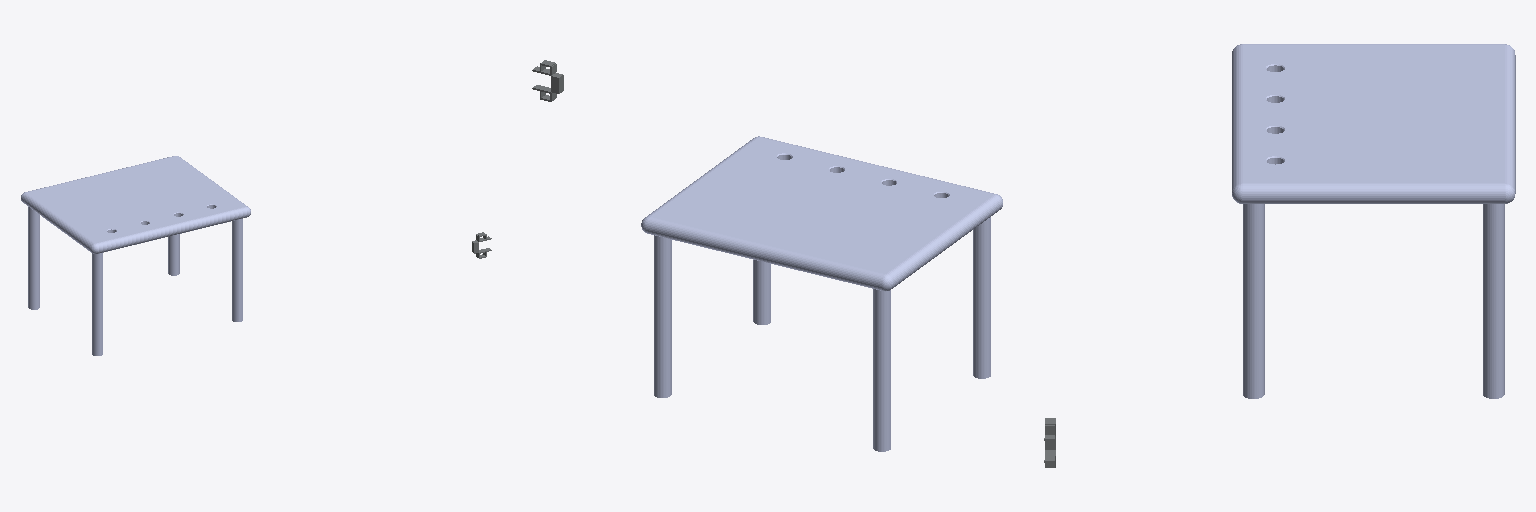
--- Render facts (derived) ---
3 views of the same robot in one strip: view 1: azimuth 30°, elevation 25°; view 2: azimuth 150°, elevation 25°; view 3: azimuth 270°, elevation 25° (orthographic).
Robot: kr_50_r2500 — 24 links, 23 joints (14 revolute, 9 fixed); root link world; default pose: every joint at zero.
Visible links, largest first — view 1: table; view 2: table; view 3: table.
Boxes of the visible links, x1,y1,x2,y2 form: table: [21, 156, 250, 355]; table: [641, 136, 1002, 451]; table: [1232, 44, 1515, 398].
Bounding box of the posed robot: 3.49 × 2.16 × 1.09 m (x, y, z).
Meshes: 8 distinct files referenced, 1 mesh visuals loaded (1 binary STL); not drawn: 7 (reference not matched to a file when rendering).

The robot description file, URDF, robot "kr_50_r2500":
<?xml version="1.0" ?>
<!-- =================================================================================== -->
<!-- |    This document was autogenerated by xacro from [local-path]/projects/personal_ws/src/kuka_coke_cell/kuka_coke_description/urdf/kuka_table_rviz.xacro | -->
<!-- |    EDITING THIS FILE BY HAND IS NOT RECOMMENDED                                 | -->
<!-- =================================================================================== -->
<robot name="kr_50_r2500">
    <link name="world" />
    <!-- -350° -->
    <!--  360°/s -->
    <link name="base_link">
        <inertial>
            <origin rpy="0 0 0" xyz="-0.080585 0.00067592 0.086754" />
            <mass value="30.385" />
            <inertia ixx="0.38941" ixy="0.0047083" ixz="0.060696" iyy="0.87424" iyz="-0.00029206" izz="1.0819" />
        </inertial>
        <visual>
            <origin rpy="0 0 0" xyz="0 0 0" />
            <geometry>
                <mesh filename="package://kr_50_r2500_description/meshes/base_link.STL" />
            </geometry>
            <material name="">
                <color rgba="0.79216 0.81961 0.93333 1" />
            </material>
        </visual>
        <collision>
            <origin rpy="0 0 0" xyz="0 0 0" />
            <geometry>
                <mesh filename="package://kr_50_r2500_description/meshes/base_link.STL" />
            </geometry>
        </collision>
    </link>
    <link name="link1">
        <inertial>
            <origin rpy="0 0 0" xyz="0.0600446329714386 0.0116665626627102 0.247062352627269" />
            <mass value="56.0953515273858" />
            <inertia ixx="1.7123503270672" ixy="0.020886843872196" ixz="-0.525246219592262" iyy="2.15349859010488" iyz="-0.031415061955379" izz="1.31690706549715" />
        </inertial>
        <visual>
            <origin rpy="0 0 0" xyz="0 0 0" />
            <geometry>
                <mesh filename="package://kr_50_r2500_description/meshes/link1.STL" />
            </geometry>
            <material name="">
                <color rgba="0.792156862745098 0.819607843137255 0.933333333333333 1" />
            </material>
        </visual>
        <collision>
            <origin rpy="0 0 0" xyz="0 0 0" />
            <geometry>
                <mesh filename="package://kr_50_r2500_description/meshes/link1.STL" />
            </geometry>
        </collision>
    </link>
    <joint name="joint1" type="revolute">
        <origin rpy="1.5708 0.009141 0" xyz="0 -0.17 0" />
        <parent link="base_link" />
        <child link="link1" />
        <axis xyz="0 0 -1" />
        <limit effort="10000" lower="-3.22886" upper="3.22886" velocity="3.05433" />
    </joint>
    <link name="link2">
        <inertial>
            <origin rpy="0 0 0" xyz="0.0040251350126134 -0.177497207044946 0.578963319749875" />
            <mass value="35.5942562362571" />
            <inertia ixx="4.47662495992728" ixy="-0.00203441583192867" ixz="0.0769841500591921" iyy="4.49958249588231" iyz="0.214283202316168" izz="0.238618624180958" />
        </inertial>
        <visual>
            <origin rpy="0 0 0" xyz="0 0 0" />
            <geometry>
                <mesh filename="package://kr_50_r2500_description/meshes/link2.STL" />
            </geometry>
            <material name="">
                <color rgba="0.792156862745098 0.819607843137255 0.933333333333333 1" />
            </material>
        </visual>
        <collision>
            <origin rpy="0 0 0" xyz="0 0 0" />
            <geometry>
                <mesh filename="package://kr_50_r2500_description/meshes/link2.STL" />
            </geometry>
        </collision>
    </link>
    <joint name="joint2" type="revolute">
        <origin rpy="0 1.557055  0" xyz="0.175 -0.074807 0.405" />
        <parent link="link1" />
        <child link="link2" />
        <axis xyz="0 1 0" />
        <limit effort="10000" lower="-3.05433" upper="1.0472" velocity="2.75762" />
    </joint>
    <link name="link3">
        <inertial>
            <origin rpy="0 0 0" xyz="0.0305175734183824 0.097105360534718 0.0162382856824868" />
            <mass value="36.6784876951283" />
            <inertia ixx="0.563908772434098" ixy="0.0648382829251099" ixz="-0.0822356915818992" iyy="0.7868662787778" iyz="0.00379928707270628" izz="1.01511384262152" />
        </inertial>
        <visual>
            <origin rpy="0 0 0" xyz="0 0 0" />
            <geometry>
                <mesh filename="package://kr_50_r2500_description/meshes/link3.STL" />
            </geometry>
            <material name="">
                <color rgba="0.792156862745098 0.819607843137255 0.933333333333333 1" />
            </material>
        </visual>
        <collision>
            <origin rpy="0 0 0" xyz="0 0 0" />
            <geometry>
                <mesh filename="package://kr_50_r2500_description/meshes/link3.STL" />
            </geometry>
        </collision>
    </link>
    <joint name="joint3" type="revolute">
        <origin rpy="0 -1.557055 0" xyz="0 0 1.29" />
        <parent link="link2" />
        <child link="link3" />
        <axis xyz="0 1 0" />
        <limit effort="10000" lower="-2.0944" upper="2.96706" velocity="3.05433" />
    </joint>
    <link name="link4">
        <inertial>
            <origin rpy="0 0 0" xyz="0.400085577392824 0.0280533450779974 -6.01461215805621E-05" />
            <mass value="15.1542881051753" />
            <inertia ixx="0.0701060691297577" ixy="-0.0990093812478981" ixz="0.00018489912158269" iyy="0.729933929975417" iyz="-2.55452640777306E-05" izz="0.748398699396793" />
        </inertial>
        <visual>
            <origin rpy="0 0 0" xyz="0 0 0" />
            <geometry>
                <mesh filename="package://kr_50_r2500_description/meshes/link4.STL" />
            </geometry>
            <material name="">
                <color rgba="0.792156862745098 0.819607843137255 0.933333333333333 1" />
            </material>
        </visual>
        <collision>
            <origin rpy="0 0 0" xyz="0 0 0" />
            <geometry>
                <mesh filename="package://kr_50_r2500_description/meshes/link4.STL" />
            </geometry>
        </collision>
    </link>
    <joint name="joint4" type="revolute">
        <origin rpy="0 0 0" xyz="0.32687 0.074807 0.05" />
        <parent link="link3" />
        <child link="link4" />
        <axis xyz="1 0 0" />
        <limit effort="10000" lower="-3.14159" upper="3.14159" velocity="4.36332" />
    </joint>
    <link name="link5">
        <inertial>
            <origin rpy="0 0 0" xyz="0.0348166227286741 -0.0333672873060013 -7.86869120463773E-05" />
            <mass value="5.17490767884354" />
            <inertia ixx="0.0198943557123769" ixy="-0.00379528838423929" ixz="-3.17734786601442E-05" iyy="0.0325404927644558" iyz="2.0392665049925E-05" izz="0.0334468145607699" />
        </inertial>
        <visual>
            <origin rpy="0 0 0" xyz="0 0 0" />
            <geometry>
                <mesh filename="package://kr_50_r2500_description/meshes/link5.STL" />
            </geometry>
            <material name="">
                <color rgba="0.792156862745098 0.819607843137255 0.933333333333333 1" />
            </material>
        </visual>
        <collision>
            <origin rpy="0 0 0" xyz="0 0 0" />
            <geometry>
                <mesh filename="package://kr_50_r2500_description/meshes/link5.STL" />
            </geometry>
        </collision>
    </link>
    <joint name="joint5" type="revolute">
        <origin rpy="0 -0.0 0" xyz="0.708131634616243 0 0" />
        <parent link="link4" />
        <child link="link5" />
        <axis xyz="0 1 0" />
        <limit effort="10000" lower="-2.18166" upper="2.18166" velocity="4.36332" />
    </joint>
    <link name="link6">
        <inertial>
            <origin rpy="0 0 0" xyz="0.0697663509698883 -2.97159715269453E-06 -4.15148219581329E-05" />
            <mass value="0.362972835401582" />
            <inertia ixx="0.000809216081686161" ixy="9.97029573660496E-10" ixz="2.41841688721677E-07" iyy="0.000440777200154296" iyz="1.15745872636665E-07" izz="0.000441694717362902" />
        </inertial>
        <visual>
            <origin rpy="0 0 0" xyz="0 0 0" />
            <geometry>
                <mesh filename="package://kr_50_r2500_description/meshes/link6.STL" />
            </geometry>
            <material name="">
                <color rgba="0.792156862745098 0.819607843137255 0.933333333333333 1" />
            </material>
        </visual>
        <collision>
            <origin rpy="0 0 0" xyz="0 0 0" />
            <geometry>
                <mesh filename="package://kr_50_r2500_description/meshes/link6.STL" />
            </geometry>
        </collision>
    </link>
    <joint name="joint6" type="revolute">
        <origin rpy="0 0 0" xyz="0.0966663727881543 0 0" />
        <parent link="link5" />
        <child link="link6" />
        <axis xyz="1 0 0" />
        <limit effort="10000" lower="-6.10865" upper="6.10865" velocity="6.28319" />
    </joint>
    <joint name="link6_to_flange" type="fixed">
        <origin rpy="0 1.57079632679 0" xyz="0.07 0 0" />
        <parent link="link6" />
        <child link="flange" />
    </joint>
    <link name="flange">
        <inertial>
            <origin rpy="0 0 0" xyz="0 0 0" />
            <mass value="0.01" />
            <inertia ixx="0.00001" ixy="0.00000" ixz="0.00000" iyy="0.00001" iyz="0.00000" izz="0.00000" />
        </inertial>
    </link>
    <transmission name="tran1">
        <type>transmission_interface/SimpleTransmission</type>
        <joint name="joint1">
            <hardwareInterface>hardware_interface/EffortJointInterface</hardwareInterface>
        </joint>
        <actuator name="motor1">
            <mechanicalReduction>1</mechanicalReduction>
            <hardwareInterface>hardware_interface/EffortJointInterface</hardwareInterface>
        </actuator>
    </transmission>
    <transmission name="tran2">
        <type>transmission_interface/SimpleTransmission</type>
        <joint name="joint2">
            <hardwareInterface>hardware_interface/EffortJointInterface</hardwareInterface>
        </joint>
        <actuator name="motor2">
            <mechanicalReduction>1</mechanicalReduction>
            <hardwareInterface>hardware_interface/EffortJointInterface</hardwareInterface>
        </actuator>
    </transmission>
    <transmission name="tran3">
        <type>transmission_interface/SimpleTransmission</type>
        <joint name="joint3">
            <hardwareInterface>hardware_interface/EffortJointInterface</hardwareInterface>
        </joint>
        <actuator name="motor3">
            <mechanicalReduction>1</mechanicalReduction>
            <hardwareInterface>hardware_interface/EffortJointInterface</hardwareInterface>
        </actuator>
    </transmission>
    <transmission name="tran4">
        <type>transmission_interface/SimpleTransmission</type>
        <joint name="joint4">
            <hardwareInterface>hardware_interface/EffortJointInterface</hardwareInterface>
        </joint>
        <actuator name="motor4">
            <mechanicalReduction>1</mechanicalReduction>
            <hardwareInterface>hardware_interface/EffortJointInterface</hardwareInterface>
        </actuator>
    </transmission>
    <transmission name="tran5">
        <type>transmission_interface/SimpleTransmission</type>
        <joint name="joint5">
            <hardwareInterface>hardware_interface/EffortJointInterface</hardwareInterface>
        </joint>
        <actuator name="motor5">
            <mechanicalReduction>1</mechanicalReduction>
            <hardwareInterface>hardware_interface/EffortJointInterface</hardwareInterface>
        </actuator>
    </transmission>
    <transmission name="tran6">
        <type>transmission_interface/SimpleTransmission</type>
        <joint name="joint6">
            <hardwareInterface>hardware_interface/EffortJointInterface</hardwareInterface>
        </joint>
        <actuator name="motor6">
            <mechanicalReduction>1</mechanicalReduction>
            <hardwareInterface>hardware_interface/EffortJointInterface</hardwareInterface>
        </actuator>
    </transmission>
    <joint name="world_to_base_link" type="fixed">
        <origin rpy="-1.57079632679 0 0" xyz="0 0 0" />
        <parent link="world" />
        <child link="base_link" />
    </joint>
    <link name="gripper_base">
        <inertial>
            <origin rpy="0 0 0" xyz="0 0 0" />
            <mass value="0.2" />
            <inertia ixx="0.001" ixy="0.0" ixz="0.0" iyy="0.001" iyz="0.0" izz="0.001" />
        </inertial>
        <visual>
            <origin rpy="0 0 0" xyz="0 0 0.025" />
            <geometry>
                <box size="0.1 0.05 0.05" />
            </geometry>
            <material name="aluminium">
                <color rgba="0.515625 0.52734375 0.53515625 1" />
            </material>
        </visual>
        <collision>
            <origin rpy="0 0 0" xyz="0 0 0.025" />
            <geometry>
                <box size="0.1 0.05 0.05" />
            </geometry>
            <material name="aluminium">
                <color rgba="0.515625 0.52734375 0.53515625 1" />
            </material>
        </collision>
    </link>
    <link name="open_tip" />
    <joint name="open_tip_joint" type="fixed">
        <origin rpy="0 0 0" xyz="0 0 0.13782116141076978" />
        <parent link="gripper_base" />
        <child link="open_tip" />
    </joint>
    <link name="closed_tip" />
    <joint name="closed_tip_joint" type="fixed">
        <origin rpy="0 0 0" xyz="0 0 0.14898979485566355" />
        <parent link="gripper_base" />
        <child link="closed_tip" />
    </joint>
    <link name="zero_pos_tip" />
    <joint name="zero_pos_tip_joint" type="fixed">
        <origin rpy="0 0 0" xyz="0 0 0.17" />
        <parent link="gripper_base" />
        <child link="zero_pos_tip" />
    </joint>
    <link name="right_crank">
        <inertial>
            <origin rpy="0 0 0" xyz="0 0 0" />
            <mass value="0.2" />
            <inertia ixx="0.001" ixy="0.0" ixz="0.0" iyy="0.001" iyz="0.0" izz="0.001" />
        </inertial>
        <visual>
            <origin rpy="0 0 0" xyz="0 0 0.035" />
            <geometry>
                <box size="0.01 0.05 0.07" />
            </geometry>
            <material name="aluminium">
                <color rgba="0.515625 0.52734375 0.53515625 1" />
            </material>
        </visual>
        <collision>
            <origin rpy="0 0 0" xyz="0 0 0.035" />
            <geometry>
                <box size="0.01 0.05 0.07" />
            </geometry>
            <material name="aluminium">
                <color rgba="0.515625 0.52734375 0.53515625 1" />
            </material>
        </collision>
    </link>
    <link name="right_external_crank">
        <inertial>
            <origin rpy="0 0 0" xyz="0 0 0" />
            <mass value="0.2" />
            <inertia ixx="0.001" ixy="0.0" ixz="0.0" iyy="0.001" iyz="0.0" izz="0.001" />
        </inertial>
        <visual>
            <origin rpy="0 0 0" xyz="0 0 0.035" />
            <geometry>
                <box size="0.01 0.05 0.07" />
            </geometry>
            <material name="aluminium">
                <color rgba="0.515625 0.52734375 0.53515625 1" />
            </material>
        </visual>
        <collision>
            <origin rpy="0 0 0" xyz="0 0 0.035" />
            <geometry>
                <box size="0.01 0.05 0.07" />
            </geometry>
            <material name="aluminium">
                <color rgba="0.515625 0.52734375 0.53515625 1" />
            </material>
        </collision>
    </link>
    <link name="right_rod">
        <inertial>
            <origin rpy="0 0 0" xyz="0 0 0" />
            <mass value="0.2" />
            <inertia ixx="0.001" ixy="0.0" ixz="0.0" iyy="0.001" iyz="0.0" izz="0.001" />
        </inertial>
        <visual>
            <origin rpy="0 0 0" xyz="0 0 0.025" />
            <geometry>
                <box size="0.01 0.05 0.05" />
            </geometry>
            <material name="aluminium">
                <color rgba="0.515625 0.52734375 0.53515625 1" />
            </material>
        </visual>
        <collision>
            <origin rpy="0 0 0" xyz="0 0 0.025" />
            <geometry>
                <box size="0.01 0.05 0.05" />
            </geometry>
            <material name="aluminium">
                <color rgba="0.515625 0.52734375 0.53515625 1" />
            </material>
        </collision>
    </link>
    <link name="right_base_rod">
        <inertial>
            <origin rpy="0 0 0" xyz="0 0 0" />
            <mass value="0.2" />
            <inertia ixx="0.001" ixy="0.0" ixz="0.0" iyy="0.001" iyz="0.0" izz="0.001" />
        </inertial>
        <visual>
            <origin rpy="0 0 0" xyz="0 0 0.025" />
            <geometry>
                <box size="0.01 0.05 0.05" />
            </geometry>
            <material name="aluminium">
                <color rgba="0.515625 0.52734375 0.53515625 1" />
            </material>
        </visual>
        <collision>
            <origin rpy="0 0 0" xyz="0 0 0.025" />
            <geometry>
                <box size="0.01 0.05 0.05" />
            </geometry>
            <material name="aluminium">
                <color rgba="0.515625 0.52734375 0.53515625 1" />
            </material>
        </collision>
    </link>
    <link name="right_phalanx">
        <inertial>
            <origin rpy="0 0 0" xyz="0 0 0" />
            <mass value="0.2" />
            <inertia ixx="0.001" ixy="0.0" ixz="0.0" iyy="0.001" iyz="0.0" izz="0.001" />
        </inertial>
        <visual>
            <origin rpy="0 0 0" xyz="0 0 0.025" />
            <geometry>
                <box size="0.01 0.05 0.05" />
            </geometry>
            <material name="aluminium">
                <color rgba="0.515625 0.52734375 0.53515625 1" />
            </material>
        </visual>
        <collision>
            <origin rpy="0 0 0" xyz="0 0 0.025" />
            <geometry>
                <box size="0.01 0.05 0.05" />
            </geometry>
            <material name="aluminium">
                <color rgba="0.515625 0.52734375 0.53515625 1" />
            </material>
        </collision>
    </link>
    <joint name="right_finger_joint" type="revolute">
        <origin rpy="0 0 0" xyz="0.055 0 0.05" />
        <parent link="gripper_base" />
        <child link="right_crank" />
        <axis xyz="0 1 0" />
        <limit effort="5" lower="-0.7956029534845354" upper="1" velocity="5.0" />
    </joint>
    <joint name="right_joint_2_5" type="fixed">
        <origin rpy="0 -1.5707963267948966 0" xyz="0 0 0" />
        <parent link="right_rod" />
        <child link="right_phalanx" />
        <axis xyz="0 1 0" />
    </joint>
    <joint name="right_joint_1_2" type="revolute">
        <origin rpy="0 1.5707963267948966 0" xyz="0 0 0.07" />
        <parent link="right_crank" />
        <child link="right_rod" />
        <axis xyz="0 1 0" />
        <limit effort="10" lower="-3.141592653589793" upper="3.141592653589793" velocity="2.0" />
        <mimic joint="right_finger_joint" multiplier="-1" offset="0" />
    </joint>
    <joint name="right_joint_2_3" type="revolute">
        <origin rpy="0 1.5707963267948966 0" xyz="0 0 0.05" />
        <parent link="right_rod" />
        <child link="right_external_crank" />
        <axis xyz="0 1 0" />
        <limit effort="10" lower="-3.141592653589793" upper="3.141592653589793" velocity="2.0" />
        <mimic joint="right_finger_joint" multiplier="1" offset="0" />
    </joint>
    <joint name="right_joint_3_4" type="revolute">
        <origin rpy="0 1.5707963267948966 0" xyz="0 0 0.07" />
        <parent link="right_external_crank" />
        <child link="right_base_rod" />
        <axis xyz="0 1 0" />
        <limit effort="10" lower="-3.141592653589793" upper="3.141592653589793" velocity="2.0" />
        <mimic joint="right_finger_joint" multiplier="-1" offset="0" />
    </joint>
    <!-- Add if to include this link only for rviz  -->
    <!-- <link name="${prefix}tip"/>
    <joint name="${prefix}tip_joint" type="fixed">
      <origin xyz="${-0.5*link_width} 0 ${phalanx_length}" rpy="0 0 0"/>
      <parent link="${prefix}phalanx" />
      <child link="${prefix}tip" />
    </joint> -->
    <!-- <gazebo>
      <joint name="${prefix}joint_4_1" type="revolute">
        <parent>${prefix}base_rod</parent>
        <child>${prefix}crank</child>
        <pose relative_to="${prefix}base_rod">0 0 ${rod_length}   0 ${pi/2} 0</pose>
        <axis>
          <xyz>0 1 0</xyz>
        </axis>
      </joint>

      <joint name="${prefix}joint_0_4" type="revolute">
        <parent>${base_name}</parent>
        <child>${prefix}base_rod</child>
        <pose relative_to="${base_name}">${(0.5*(base_x+link_width)+rod_length)*cos(rot_z)} 0 ${base_z} 0 0 ${rot_z}</pose>
        <axis>
          <xyz>0 1 0</xyz>
        </axis>
      </joint>
    </gazebo>

    <gazebo reference="${prefix}phalanx">
      <self_collide>1</self_collide>
      <kp>100000</kp>
      <kd>200</kd>
      <mu1>2</mu1>
      <mu2>2</mu2>
    </gazebo> -->
    <link name="left_crank">
        <inertial>
            <origin rpy="0 0 0" xyz="0 0 0" />
            <mass value="0.2" />
            <inertia ixx="0.001" ixy="0.0" ixz="0.0" iyy="0.001" iyz="0.0" izz="0.001" />
        </inertial>
        <visual>
            <origin rpy="0 0 0" xyz="0 0 0.035" />
            <geometry>
                <box size="0.01 0.05 0.07" />
            </geometry>
            <material name="aluminium">
                <color rgba="0.515625 0.52734375 0.53515625 1" />
            </material>
        </visual>
        <collision>
            <origin rpy="0 0 0" xyz="0 0 0.035" />
            <geometry>
                <box size="0.01 0.05 0.07" />
            </geometry>
            <material name="aluminium">
                <color rgba="0.515625 0.52734375 0.53515625 1" />
            </material>
        </collision>
    </link>
    <link name="left_external_crank">
        <inertial>
            <origin rpy="0 0 0" xyz="0 0 0" />
            <mass value="0.2" />
            <inertia ixx="0.001" ixy="0.0" ixz="0.0" iyy="0.001" iyz="0.0" izz="0.001" />
        </inertial>
        <visual>
            <origin rpy="0 0 0" xyz="0 0 0.035" />
            <geometry>
                <box size="0.01 0.05 0.07" />
            </geometry>
            <material name="aluminium">
                <color rgba="0.515625 0.52734375 0.53515625 1" />
            </material>
        </visual>
        <collision>
            <origin rpy="0 0 0" xyz="0 0 0.035" />
            <geometry>
                <box size="0.01 0.05 0.07" />
            </geometry>
            <material name="aluminium">
                <color rgba="0.515625 0.52734375 0.53515625 1" />
            </material>
        </collision>
    </link>
    <link name="left_rod">
        <inertial>
            <origin rpy="0 0 0" xyz="0 0 0" />
            <mass value="0.2" />
            <inertia ixx="0.001" ixy="0.0" ixz="0.0" iyy="0.001" iyz="0.0" izz="0.001" />
        </inertial>
        <visual>
            <origin rpy="0 0 0" xyz="0 0 0.025" />
            <geometry>
                <box size="0.01 0.05 0.05" />
            </geometry>
            <material name="aluminium">
                <color rgba="0.515625 0.52734375 0.53515625 1" />
            </material>
        </visual>
        <collision>
            <origin rpy="0 0 0" xyz="0 0 0.025" />
            <geometry>
                <box size="0.01 0.05 0.05" />
            </geometry>
            <material name="aluminium">
                <color rgba="0.515625 0.52734375 0.53515625 1" />
            </material>
        </collision>
    </link>
    <link name="left_base_rod">
        <inertial>
            <origin rpy="0 0 0" xyz="0 0 0" />
            <mass value="0.2" />
            <inertia ixx="0.001" ixy="0.0" ixz="0.0" iyy="0.001" iyz="0.0" izz="0.001" />
        </inertial>
        <visual>
            <origin rpy="0 0 0" xyz="0 0 0.025" />
            <geometry>
                <box size="0.01 0.05 0.05" />
            </geometry>
            <material name="aluminium">
                <color rgba="0.515625 0.52734375 0.53515625 1" />
            </material>
        </visual>
        <collision>
            <origin rpy="0 0 0" xyz="0 0 0.025" />
            <geometry>
                <box size="0.01 0.05 0.05" />
            </geometry>
            <material name="aluminium">
                <color rgba="0.515625 0.52734375 0.53515625 1" />
            </material>
        </collision>
    </link>
    <link name="left_phalanx">
        <inertial>
            <origin rpy="0 0 0" xyz="0 0 0" />
            <mass value="0.2" />
            <inertia ixx="0.001" ixy="0.0" ixz="0.0" iyy="0.001" iyz="0.0" izz="0.001" />
        </inertial>
        <visual>
            <origin rpy="0 0 0" xyz="0 0 0.025" />
            <geometry>
                <box size="0.01 0.05 0.05" />
            </geometry>
            <material name="aluminium">
                <color rgba="0.515625 0.52734375 0.53515625 1" />
            </material>
        </visual>
        <collision>
            <origin rpy="0 0 0" xyz="0 0 0.025" />
            <geometry>
                <box size="0.01 0.05 0.05" />
            </geometry>
            <material name="aluminium">
                <color rgba="0.515625 0.52734375 0.53515625 1" />
            </material>
        </collision>
    </link>
    <joint name="left_finger_joint" type="revolute">
        <origin rpy="0 0 3.141592653589793" xyz="-0.055 0 0.05" />
        <parent link="gripper_base" />
        <child link="left_crank" />
        <axis xyz="0 1 0" />
        <limit effort="5" lower="-0.7956029534845354" upper="1" velocity="5.0" />
        <mimic joint="right_finger_joint" multiplier="1" offset="0" />
    </joint>
    <joint name="left_joint_2_5" type="fixed">
        <origin rpy="0 -1.5707963267948966 0" xyz="0 0 0" />
        <parent link="left_rod" />
        <child link="left_phalanx" />
        <axis xyz="0 1 0" />
    </joint>
    <joint name="left_joint_1_2" type="revolute">
        <origin rpy="0 1.5707963267948966 0" xyz="0 0 0.07" />
        <parent link="left_crank" />
        <child link="left_rod" />
        <axis xyz="0 1 0" />
        <limit effort="10" lower="-3.141592653589793" upper="3.141592653589793" velocity="2.0" />
        <mimic joint="left_finger_joint" multiplier="-1" offset="0" />
    </joint>
    <joint name="left_joint_2_3" type="revolute">
        <origin rpy="0 1.5707963267948966 0" xyz="0 0 0.05" />
        <parent link="left_rod" />
        <child link="left_external_crank" />
        <axis xyz="0 1 0" />
        <limit effort="10" lower="-3.141592653589793" upper="3.141592653589793" velocity="2.0" />
        <mimic joint="left_finger_joint" multiplier="1" offset="0" />
    </joint>
    <joint name="left_joint_3_4" type="revolute">
        <origin rpy="0 1.5707963267948966 0" xyz="0 0 0.07" />
        <parent link="left_external_crank" />
        <child link="left_base_rod" />
        <axis xyz="0 1 0" />
        <limit effort="10" lower="-3.141592653589793" upper="3.141592653589793" velocity="2.0" />
        <mimic joint="left_finger_joint" multiplier="-1" offset="0" />
    </joint>
    <!-- Add if to include this link only for rviz  -->
    <!-- <link name="${prefix}tip"/>
    <joint name="${prefix}tip_joint" type="fixed">
      <origin xyz="${-0.5*link_width} 0 ${phalanx_length}" rpy="0 0 0"/>
      <parent link="${prefix}phalanx" />
      <child link="${prefix}tip" />
    </joint> -->
    <!-- <gazebo>
      <joint name="${prefix}joint_4_1" type="revolute">
        <parent>${prefix}base_rod</parent>
        <child>${prefix}crank</child>
        <pose relative_to="${prefix}base_rod">0 0 ${rod_length}   0 ${pi/2} 0</pose>
        <axis>
          <xyz>0 1 0</xyz>
        </axis>
      </joint>

      <joint name="${prefix}joint_0_4" type="revolute">
        <parent>${base_name}</parent>
        <child>${prefix}base_rod</child>
        <pose relative_to="${base_name}">${(0.5*(base_x+link_width)+rod_length)*cos(rot_z)} 0 ${base_z} 0 0 ${rot_z}</pose>
        <axis>
          <xyz>0 1 0</xyz>
        </axis>
      </joint>
    </gazebo>

    <gazebo reference="${prefix}phalanx">
      <self_collide>1</self_collide>
      <kp>100000</kp>
      <kd>200</kd>
      <mu1>2</mu1>
      <mu2>2</mu2>
    </gazebo> -->
    <transmission name="right_finger_joint_trans">
        <type>transmission_interface/SimpleTransmission</type>
        <joint name="right_finger_joint">
            <hardwareInterface>hardware_interface/EffortJointInterface</hardwareInterface>
        </joint>
        <actuator name="right_finger_joint_motor">
            <mechanicalReduction>1</mechanicalReduction>
            <hardwareInterface>hardware_interface/EffortJointInterface</hardwareInterface>
        </actuator>
    </transmission>
    <transmission name="left_finger_joint_trans">
        <type>transmission_interface/SimpleTransmission</type>
        <joint name="left_finger_joint">
            <hardwareInterface>hardware_interface/EffortJointInterface</hardwareInterface>
        </joint>
        <actuator name="left_finger_joint_motor">
            <mechanicalReduction>1</mechanicalReduction>
            <hardwareInterface>hardware_interface/EffortJointInterface</hardwareInterface>
        </actuator>
    </transmission>
    <joint name="gripper_joint" type="fixed">
        <origin rpy="0 0 0" xyz="0 0 0.018" />
        <parent link="flange" />
        <child link="gripper_base" />
    </joint>
    <joint name="table_fixed" type="fixed">
        <origin rpy="0 0 0" xyz="0 1.5 0" />
        <parent link="world" />
        <child link="table" />
    </joint>
    <link name="table">
        <inertial>
            <origin rpy="0 0 0" xyz="-0.080585 0.00067592 0.086754" />
            <mass value="30.385" />
            <inertia ixx="0.38941" ixy="0.0047083" ixz="0.060696" iyy="0.87424" iyz="-0.00029206" izz="1.0819" />
        </inertial>
        <visual>
            <origin rpy="0 0 0" xyz="0 0 0" />
            <geometry>
                <mesh filename="package://kuka_coke_description/meshes/table.stl" />
            </geometry>
            <material name="">
                <color rgba="0.79216 0.81961 0.93333 1" />
            </material>
        </visual>
        <collision>
            <origin rpy="0 0 0" xyz="0 0 0" />
            <geometry>
                <mesh filename="package://kuka_coke_description/meshes/table.stl" />
            </geometry>
        </collision>
    </link>
    <transmission name="trans_right_joint_1_2">
        <type>transmission_interface/SimpleTransmission</type>
        <joint name="right_joint_1_2">
            <hardwareInterface>hardware_interface/EffortJointInterface</hardwareInterface>
        </joint>
        <actuator name="right_joint_1_2_motor">
            <hardwareInterface>hardware_interface/EffortJointInterface</hardwareInterface>
            <mechanicalReduction>1</mechanicalReduction>
        </actuator>
    </transmission>
    <transmission name="trans_right_joint_2_3">
        <type>transmission_interface/SimpleTransmission</type>
        <joint name="right_joint_2_3">
            <hardwareInterface>hardware_interface/EffortJointInterface</hardwareInterface>
        </joint>
        <actuator name="right_joint_2_3_motor">
            <hardwareInterface>hardware_interface/EffortJointInterface</hardwareInterface>
            <mechanicalReduction>1</mechanicalReduction>
        </actuator>
    </transmission>
    <transmission name="trans_right_joint_3_4">
        <type>transmission_interface/SimpleTransmission</type>
        <joint name="right_joint_3_4">
            <hardwareInterface>hardware_interface/EffortJointInterface</hardwareInterface>
        </joint>
        <actuator name="right_joint_3_4_motor">
            <hardwareInterface>hardware_interface/EffortJointInterface</hardwareInterface>
            <mechanicalReduction>1</mechanicalReduction>
        </actuator>
    </transmission>
    <transmission name="trans_left_joint_1_2">
        <type>transmission_interface/SimpleTransmission</type>
        <joint name="left_joint_1_2">
            <hardwareInterface>hardware_interface/EffortJointInterface</hardwareInterface>
        </joint>
        <actuator name="left_joint_1_2_motor">
            <hardwareInterface>hardware_interface/EffortJointInterface</hardwareInterface>
            <mechanicalReduction>1</mechanicalReduction>
        </actuator>
    </transmission>
    <transmission name="trans_left_joint_2_3">
        <type>transmission_interface/SimpleTransmission</type>
        <joint name="left_joint_2_3">
            <hardwareInterface>hardware_interface/EffortJointInterface</hardwareInterface>
        </joint>
        <actuator name="left_joint_2_3_motor">
            <hardwareInterface>hardware_interface/EffortJointInterface</hardwareInterface>
            <mechanicalReduction>1</mechanicalReduction>
        </actuator>
    </transmission>
    <transmission name="trans_left_joint_3_4">
        <type>transmission_interface/SimpleTransmission</type>
        <joint name="left_joint_3_4">
            <hardwareInterface>hardware_interface/EffortJointInterface</hardwareInterface>
        </joint>
        <actuator name="left_joint_3_4_motor">
            <hardwareInterface>hardware_interface/EffortJointInterface</hardwareInterface>
            <mechanicalReduction>1</mechanicalReduction>
        </actuator>
    </transmission>
    <gazebo>
        <plugin name="gazebo_ros_control">
            <robotNamespace>/</robotNamespace>
        </plugin>
    </gazebo>
</robot>
